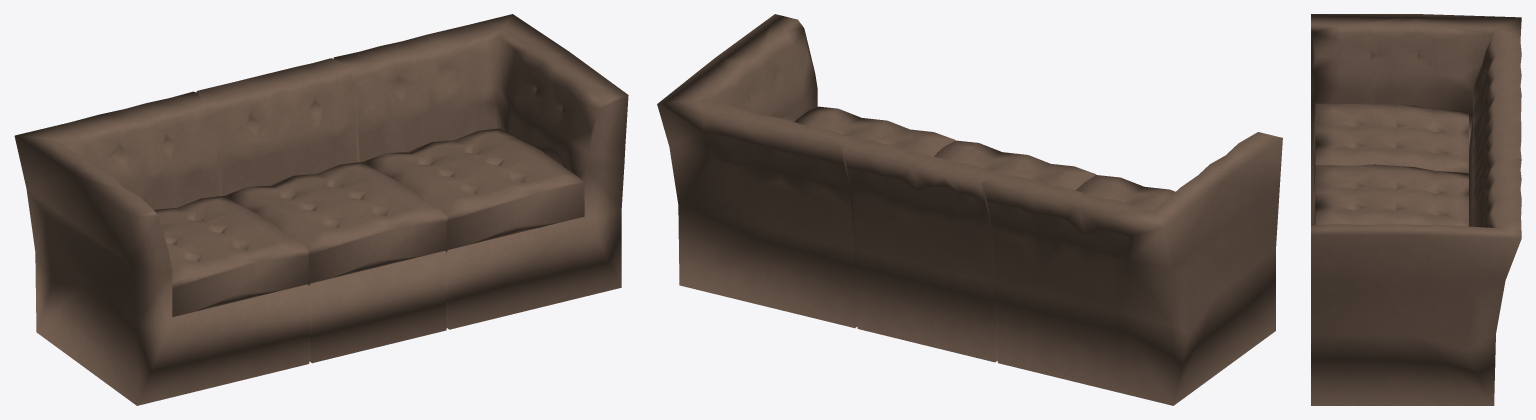
Rendered from sofa.glb.
The picture shows the model from 3 angles, left to right: view 1: azimuth 30°, elevation 25°; view 2: azimuth 150°, elevation 25°; view 3: azimuth 270°, elevation 25°; orthographic projection. The views are drawn at different scales.
Parts seen in each view (by area): view 1: SofaMesh; view 2: SofaMesh; view 3: SofaMesh.
Boxes of the visible parts, x1,y1,x2,y2 form: SofaMesh: (14,14,628,405); SofaMesh: (657,14,1282,405); SofaMesh: (1311,14,1521,405).
Size of the model in its own units: 2.04 by 0.7459 by 0.8195.
Materials: 1 (1 with a texture image).
